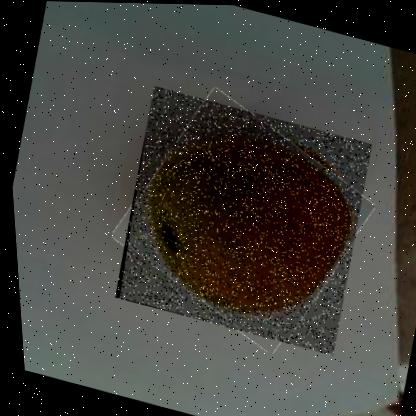mango: (97, 84, 380, 356)
